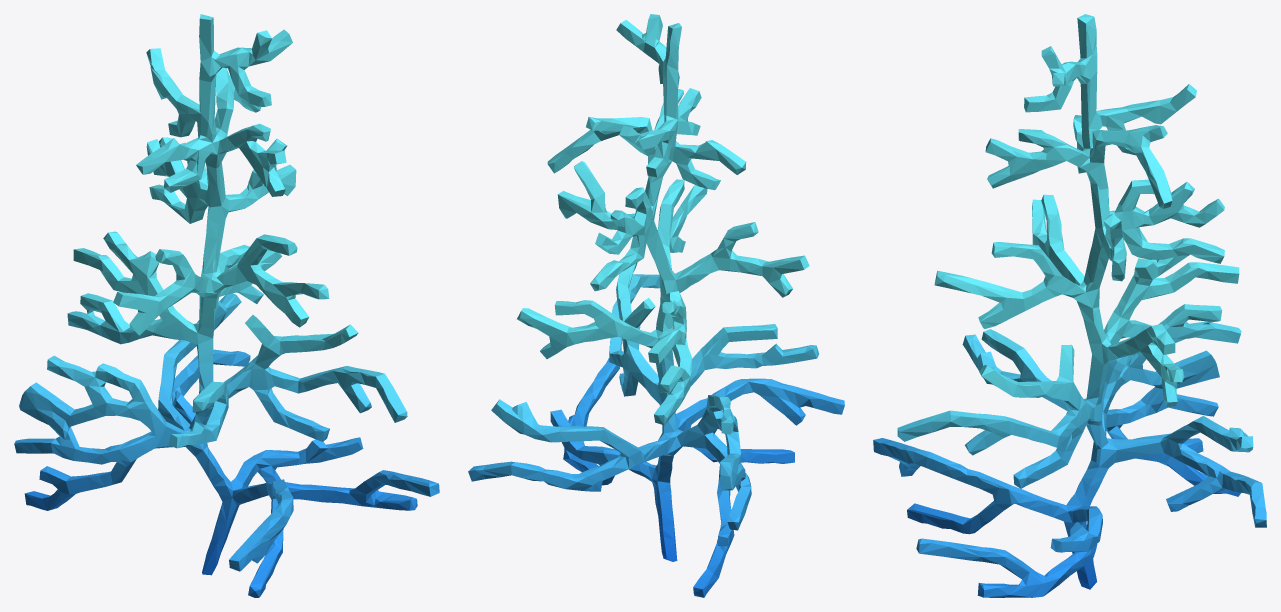
Rendered from SM_Coral_10.fbx.
3 renders of one model, left to right at view 1: azimuth 30°, elevation 25°; view 2: azimuth 150°, elevation 25°; view 3: azimuth 270°, elevation 25°, orthographic. The views are drawn at different scales.
Visible parts, largest first — view 1: Coral_10; view 2: Coral_10; view 3: Coral_10.
Boxes of the visible parts, bbox=[...] form: Coral_10: bbox=[14, 14, 439, 597]; Coral_10: bbox=[468, 14, 844, 597]; Coral_10: bbox=[873, 14, 1266, 597].
Bounding box in the file's own units: 96.43 × 177 × 111.
